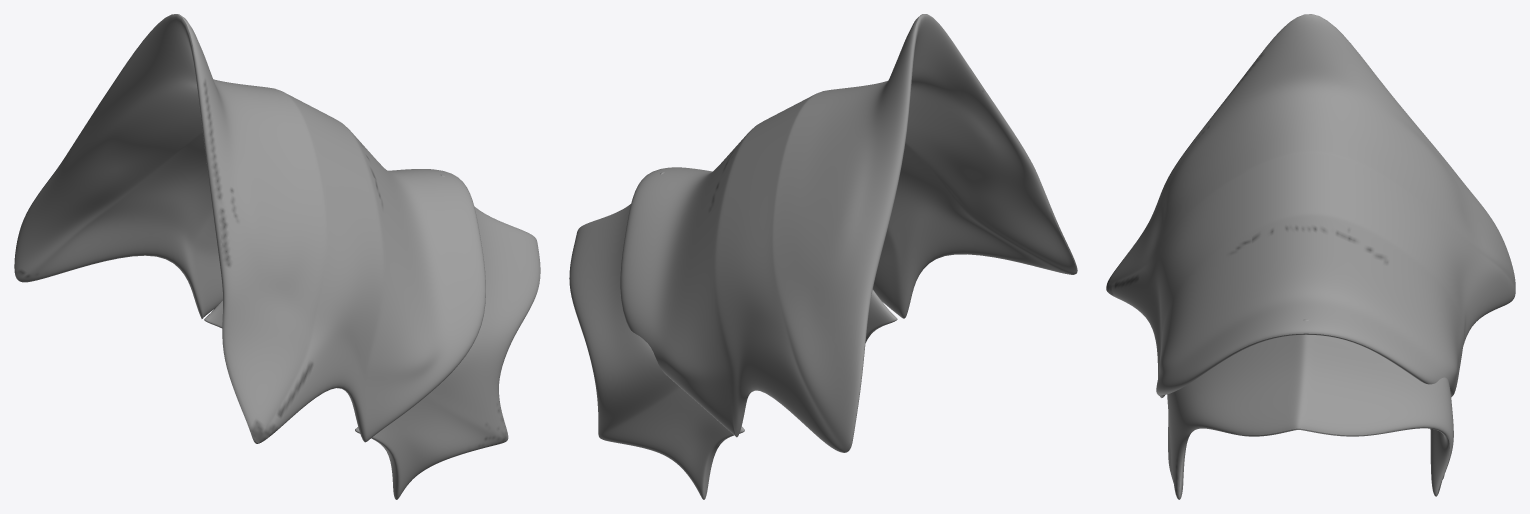
File: ShoulderRarmor.fbx
The picture shows the model from 3 angles, left to right: view 1: azimuth 30°, elevation 25°; view 2: azimuth 150°, elevation 25°; view 3: azimuth 270°, elevation 25°; orthographic projection. The views are drawn at different scales.
Parts seen in each view (by area): view 1: Cube.003; view 2: Cube.003; view 3: Cube.003.
Part boxes in pixels (<box>): Cube.003: <box>14,14,540,499</box>; Cube.003: <box>569,14,1077,499</box>; Cube.003: <box>1106,14,1515,499</box>.
Size of the model in its own units: 193 by 215 by 197.
Materials: 1 (1 with a texture image).
